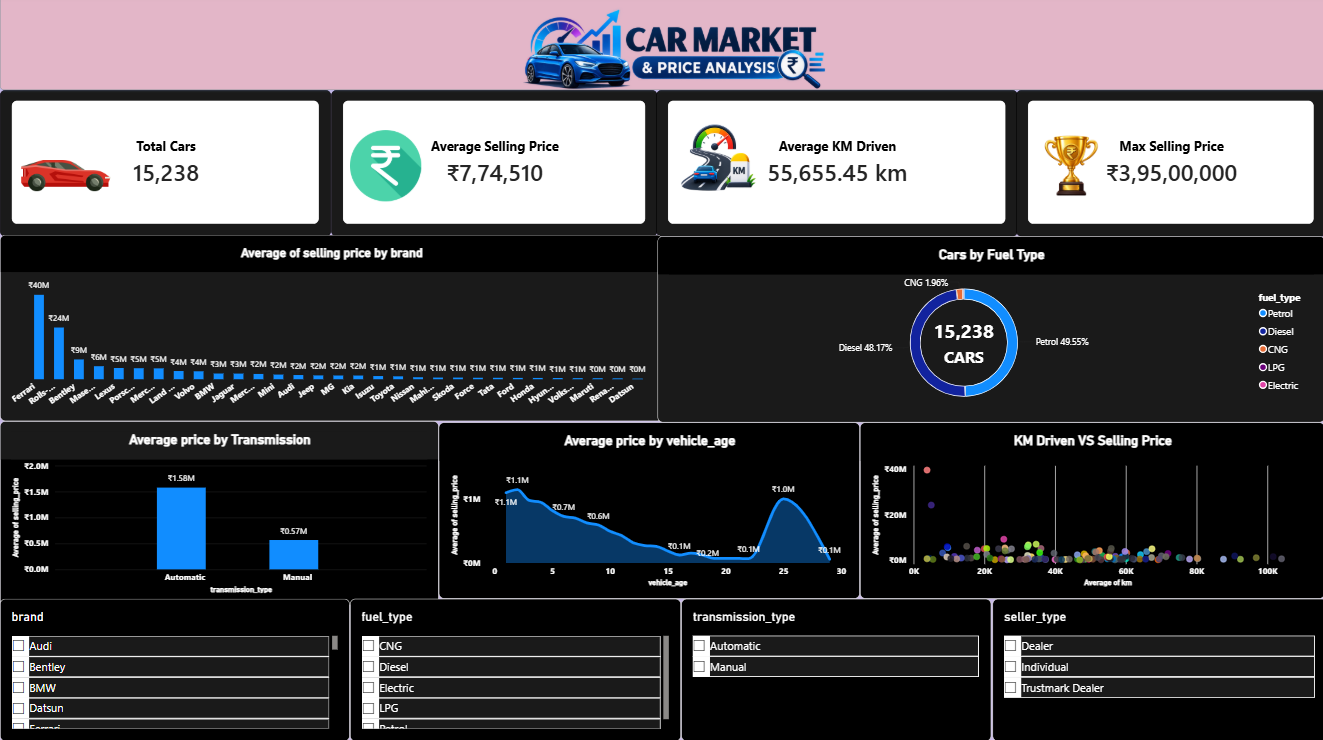

The page's visual inventory and layout, read from the dashboard file:
{"tool":"powerbi","page":{"name":"Page 1","canvas":[1920,1080],"ordinal":0},"visuals":[{"type":"cardVisual","fields":{"Data":["CountNonNull(cleaned_cardekho_dataset.car_name)"]},"box":[0,137.5,479.6,211.7],"z":0},{"type":"cardVisual","fields":{"Data":["Avg(cleaned_cardekho_dataset.selling_price)"]},"box":[479.6,137.5,472.3,211.7],"z":1000},{"type":"cardVisual","fields":{"Data":["cleaned_cardekho_dataset.Average KM Driven"]},"box":[949.7,138,523,211.8],"z":2000},{"type":"cardVisual","fields":{"Data":["Max(cleaned_cardekho_dataset.selling_price)"]},"box":[1471.3,137.5,448.8,211.7],"z":3000},{"type":"clusteredColumnChart","title":"Average of selling price by brand","fields":{"Category":["cleaned_cardekho_dataset.brand"],"Y":["Avg(cleaned_cardekho_dataset.selling_price)"]},"box":[0,347.5,959.1,269.6],"z":4000},{"type":"donutChart","title":"Cars by Fuel Type","fields":{"Category":["cleaned_cardekho_dataset.fuel_type"],"Y":["CountNonNull(cleaned_cardekho_dataset.car_name)"]},"box":[951.9,349.3,966.4,269.6],"z":5000},{"type":"clusteredColumnChart","title":"Average price by Transmission","fields":{"Category":["cleaned_cardekho_dataset.transmission_type"],"Y":["Avg(cleaned_cardekho_dataset.selling_price)"]},"box":[0,617.1,635.2,266],"z":6000},{"type":"lineChart","title":"Average price by vehicle_age","fields":{"Category":["cleaned_cardekho_dataset.vehicle_age"],"Y":["Avg(cleaned_cardekho_dataset.selling_price)"]},"box":[635.2,618.9,609.9,255.2],"z":7000},{"type":"scatterChart","title":"KM Driven VS Selling Price","fields":{"Series":["cleaned_cardekho_dataset.car_name"],"X":["Avg(cleaned_cardekho_dataset.km_driven)"],"Y":["Avg(cleaned_cardekho_dataset.selling_price)"]},"box":[1245,618.9,673.2,255.2],"z":8000},{"type":"listSlicer","fields":{"Values":["cleaned_cardekho_dataset.brand"]},"box":[0,873.3,506.7,206.3],"z":9000},{"type":"listSlicer","fields":{"Values":["cleaned_cardekho_dataset.fuel_type"]},"box":[506.7,873.3,479.6,206.3],"z":10000},{"type":"listSlicer","fields":{"Values":["cleaned_cardekho_dataset.transmission_type"]},"box":[986.7,873.3,448.8,206.3],"z":11000},{"type":"listSlicer","fields":{"Values":["cleaned_cardekho_dataset.seller_type"]},"box":[1436.7,873.3,485,206.3],"z":12000},{"type":"textbox","box":[0,0,1920.1,137.5],"z":13000},{"type":"image","box":[506.7,182.8,103.2,128.5],"z":14000},{"type":"image","box":[25.3,195.4,139.3,132.1],"z":15000},{"type":"image","box":[1496.6,182.8,108.6,128.5],"z":16000},{"type":"image","box":[960.9,171.9,164.7,126.7],"z":17000},{"type":"image","box":[253.4,0,1442.3,159.3],"z":18000}]}

Visuals, with their boxes in screenshot pixels (x1, y1, x2, y2), scaled from the page's 1920x1080 canvas onto the 1323x740 screenshot:
cardVisual - CountNonNull(cleaned_cardekho_dataset.car_name): [left=0, top=94, right=330, bottom=239]
cardVisual - Avg(cleaned_cardekho_dataset.selling_price): [left=330, top=94, right=656, bottom=239]
cardVisual - cleaned_cardekho_dataset.Average KM Driven: [left=654, top=95, right=1015, bottom=240]
cardVisual - Max(cleaned_cardekho_dataset.selling_price): [left=1014, top=94, right=1322, bottom=239]
"Average of selling price by brand" clusteredColumnChart: [left=0, top=238, right=661, bottom=423]
"Cars by Fuel Type" donutChart: [left=656, top=239, right=1322, bottom=424]
"Average price by Transmission" clusteredColumnChart: [left=0, top=423, right=438, bottom=605]
"Average price by vehicle_age" lineChart: [left=438, top=424, right=858, bottom=599]
"KM Driven VS Selling Price" scatterChart: [left=858, top=424, right=1322, bottom=599]
listSlicer - cleaned_cardekho_dataset.brand: [left=0, top=598, right=349, bottom=739]
listSlicer - cleaned_cardekho_dataset.fuel_type: [left=349, top=598, right=680, bottom=739]
listSlicer - cleaned_cardekho_dataset.transmission_type: [left=680, top=598, right=989, bottom=739]
listSlicer - cleaned_cardekho_dataset.seller_type: [left=990, top=598, right=1322, bottom=739]
textbox: [left=0, top=0, right=1322, bottom=94]
image: [left=349, top=125, right=420, bottom=213]
image: [left=17, top=134, right=113, bottom=224]
image: [left=1031, top=125, right=1106, bottom=213]
image: [left=662, top=118, right=776, bottom=205]
image: [left=175, top=0, right=1168, bottom=109]
